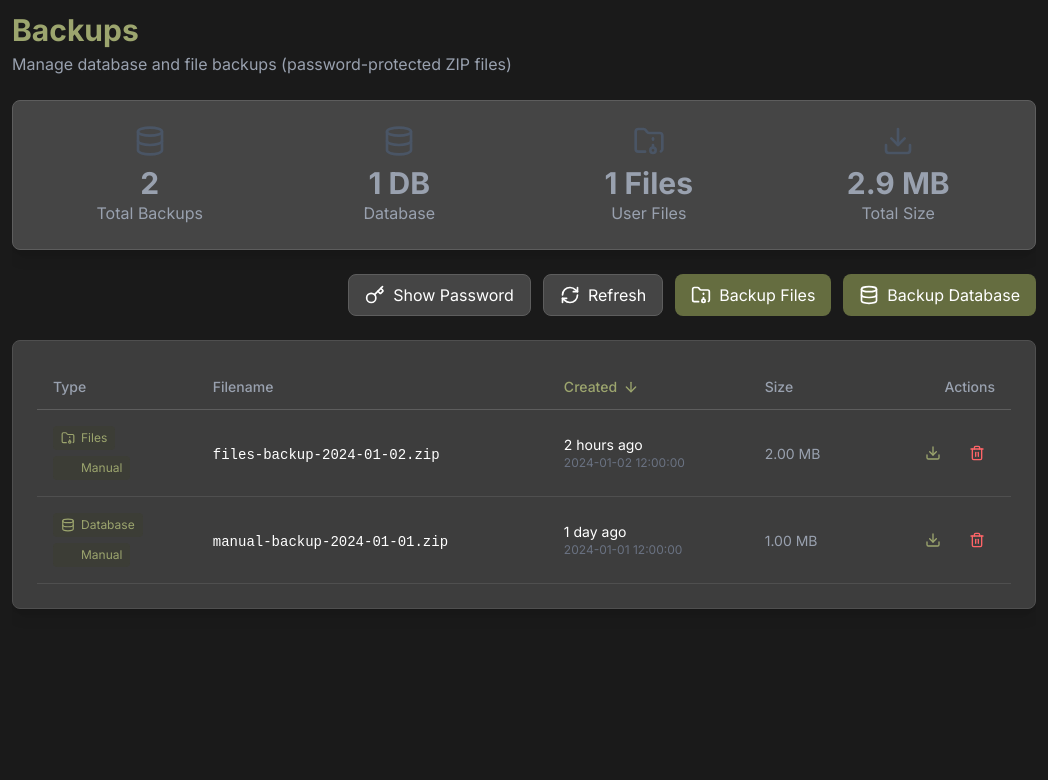
Scenario: BackupsManagement › Creating backups › should show error when backup creation fails
Expected: the text "manual-backup-2024-01-01.zip" is shown, [213,534,448,550]
Click the button "Backup Database". click: (940, 295)
box: [843,274,1036,316]
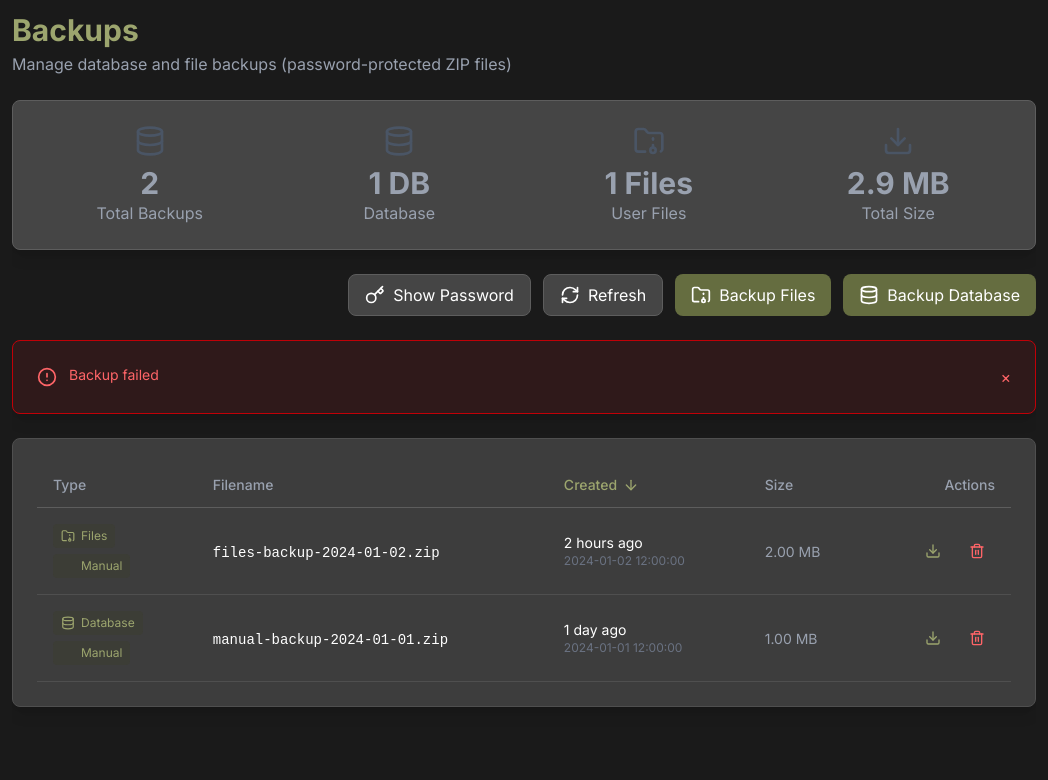
Result: the text "Backup failed" is shown at [69,366,159,383]
